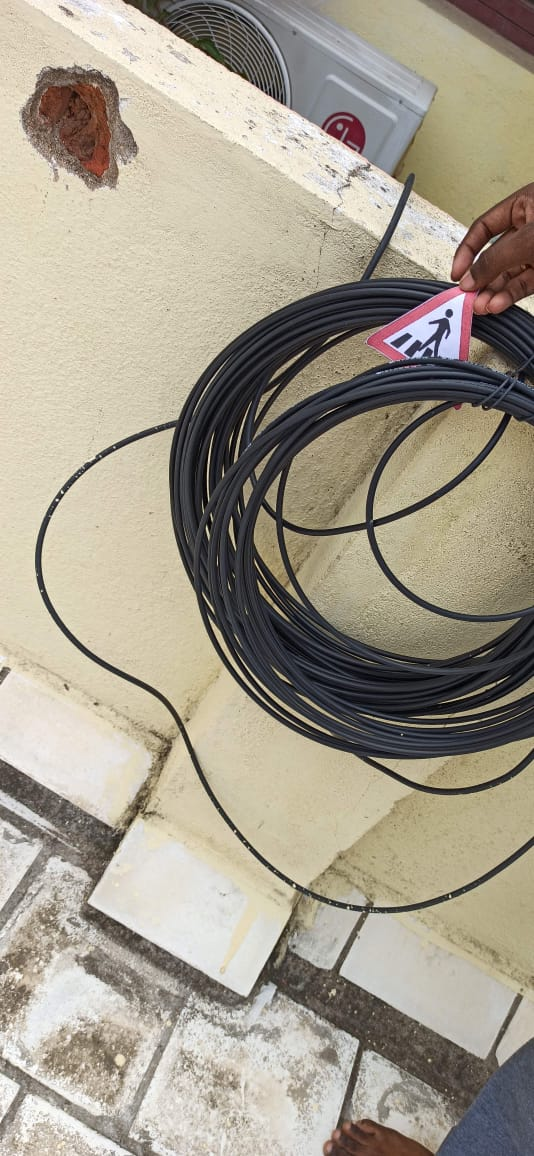PEDESTRIAN CROSSING: (366, 256, 492, 411)
